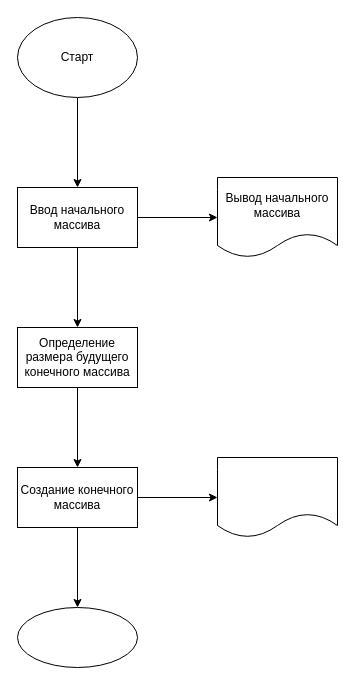
Some shapes in this 355 by 685 pixel diagram are drawn without their labels. Here are the shapes that lost their labels. From the top down, the box of each, then its label:
(216, 456, 338, 538): Вывод конечного массива
(16, 606, 138, 668): Конец
